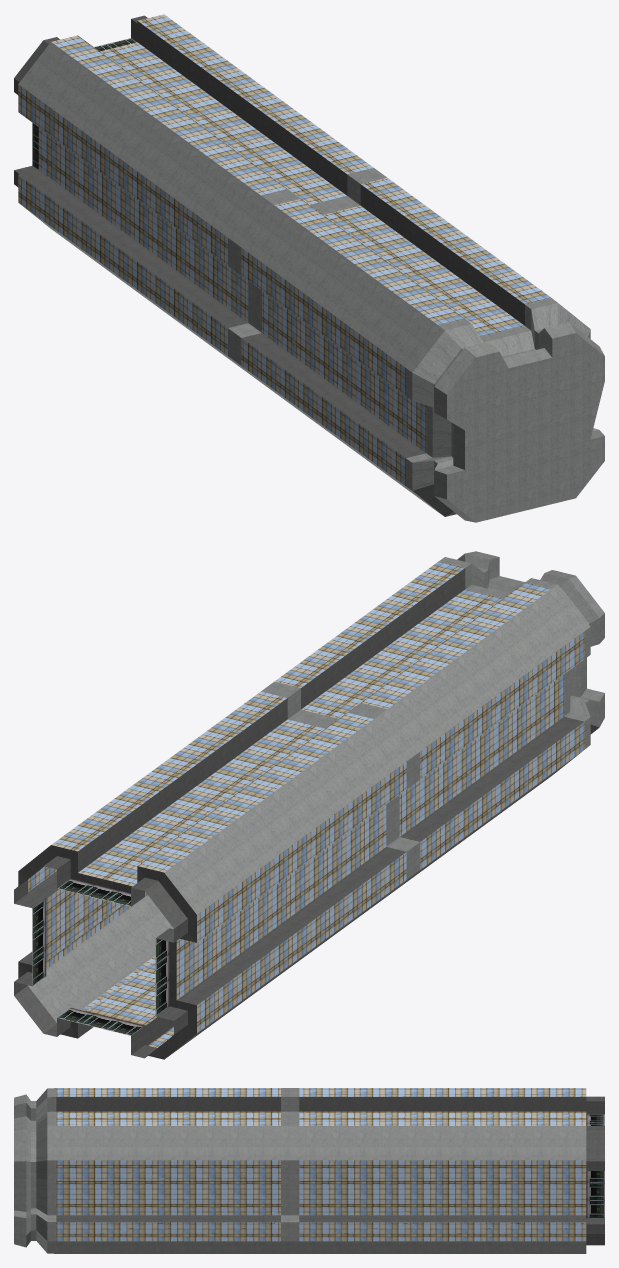
File: skyscraper_windowA_02.obj
The picture shows the model from 3 angles, top to bottom: view 1: azimuth 30°, elevation 25°; view 2: azimuth 150°, elevation 25°; view 3: azimuth 270°, elevation 25°; orthographic projection. The views are drawn at different scales.
Visible parts, largest first — view 1: Object08; view 2: Object08; view 3: Object08.
Boxes of the visible parts, left/top/right/bottom form: Object08: left=14, top=14, right=604, bottom=522; Object08: left=14, top=551, right=604, bottom=1059; Object08: left=14, top=1088, right=604, bottom=1253.
Bounding box in the file's own units: 44.68 × 44.68 × 187.
Materials: 4 (4 with a texture image).
